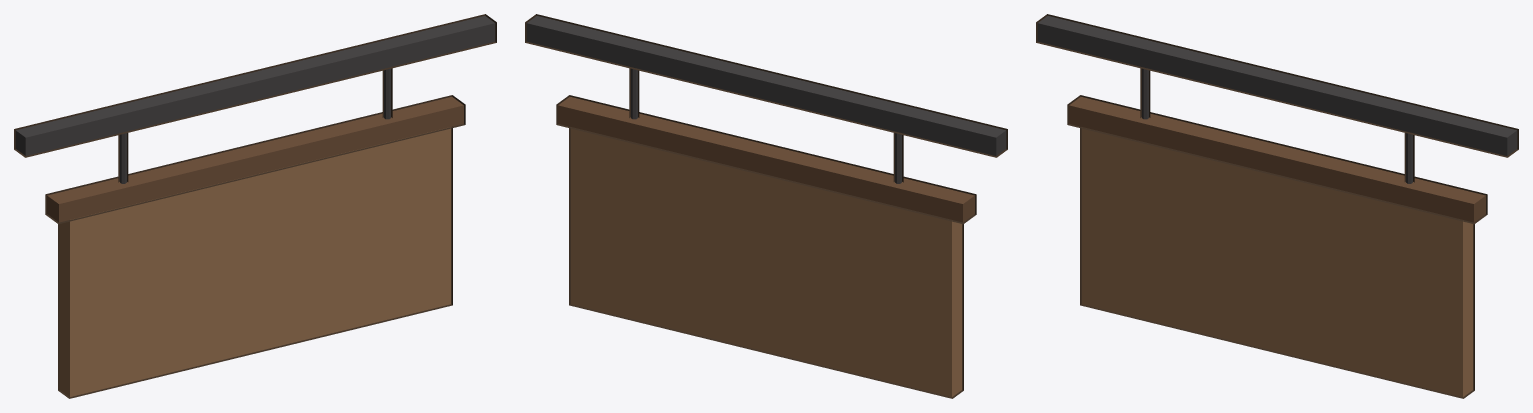
Rendered from shop_sign.glb.
3 renders of one model, left to right at view 1: azimuth 30°, elevation 25°; view 2: azimuth 150°, elevation 25°; view 3: azimuth 330°, elevation 25°, orthographic.
Visible parts, largest first — view 1: Board, Bracket, Trim, Chain0.001, Chain0; view 2: Board, Bracket, Trim, Chain0.001, Chain0; view 3: Board, Bracket, Trim, Chain0, Chain0.001.
Boxes of the visible parts, x1=… form: Board: x1=58, y1=126, x2=452, y2=398; Bracket: x1=14, y1=14, x2=496, y2=157; Trim: x1=45, y1=95, x2=465, y2=224; Chain0.001: x1=382, y1=68, x2=392, y2=119; Chain0: x1=118, y1=133, x2=128, y2=183; Board: x1=569, y1=126, x2=963, y2=398; Bracket: x1=525, y1=14, x2=1007, y2=157; Trim: x1=556, y1=95, x2=976, y2=224; Chain0.001: x1=629, y1=68, x2=639, y2=119; Chain0: x1=893, y1=133, x2=903, y2=183; Board: x1=1080, y1=126, x2=1474, y2=398; Bracket: x1=1036, y1=14, x2=1518, y2=157; Trim: x1=1067, y1=95, x2=1487, y2=224; Chain0: x1=1140, y1=68, x2=1150, y2=119; Chain0.001: x1=1404, y1=133, x2=1414, y2=183.
Bounding box in the file's own units: 1.61 × 0.8869 × 0.0769.
